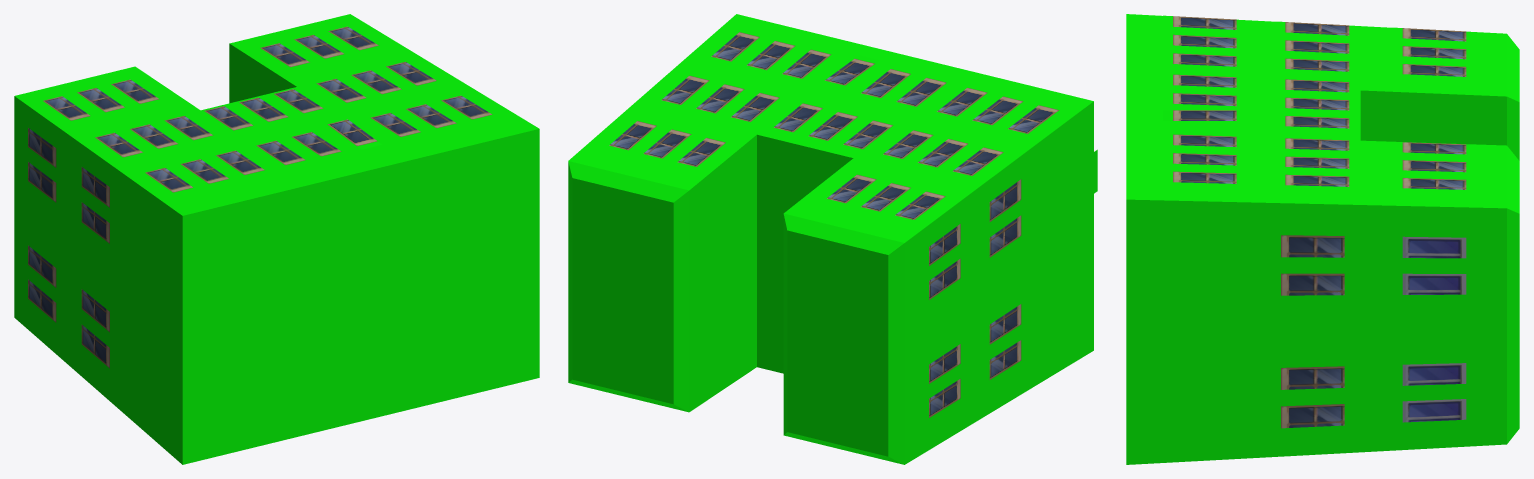
The model's file is building_3s_03.FBX.
The picture shows the model from 3 angles, left to right: view 1: azimuth 30°, elevation 25°; view 2: azimuth 150°, elevation 25°; view 3: azimuth 270°, elevation 25°; orthographic projection. The views are drawn at different scales.
Visible parts, largest first — view 1: building_3s_03; view 2: building_3s_03; view 3: building_3s_03.
Part boxes in pixels (x1,y1,x2,y2): building_3s_03: (14, 14, 539, 464); building_3s_03: (568, 14, 1097, 464); building_3s_03: (1126, 14, 1519, 464).
Bounding box in the file's own units: 15.18 × 10.22 × 13.44.
